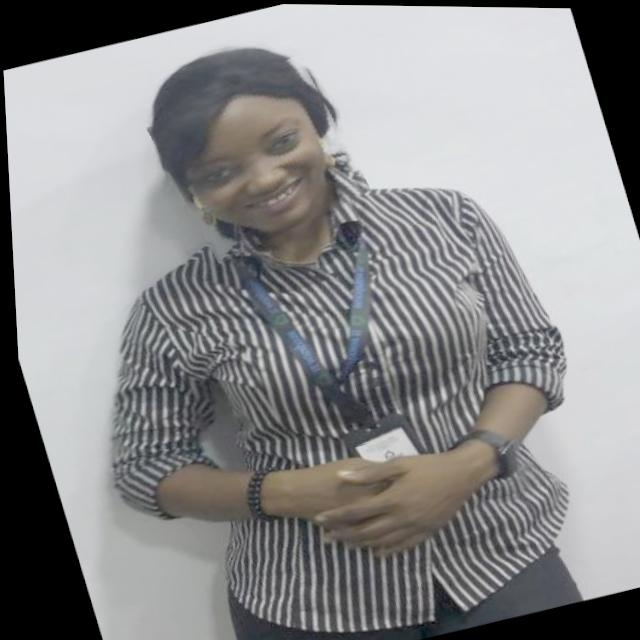happy: (142, 54, 373, 262)
